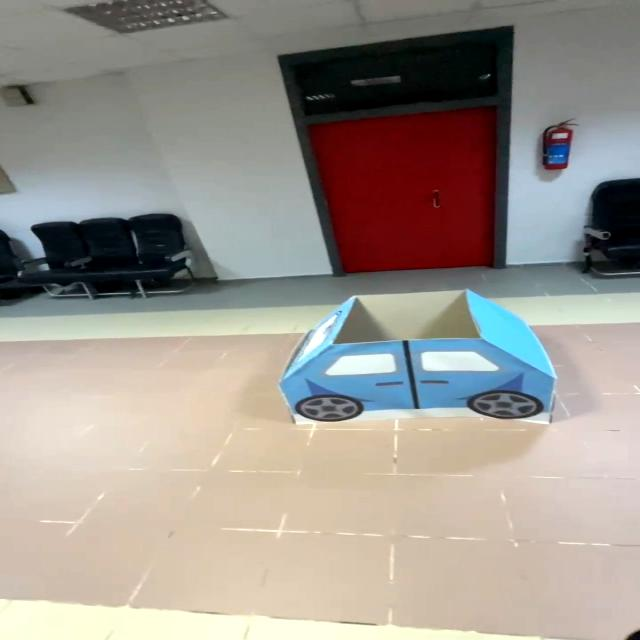blue_car: (246, 279, 576, 444)
